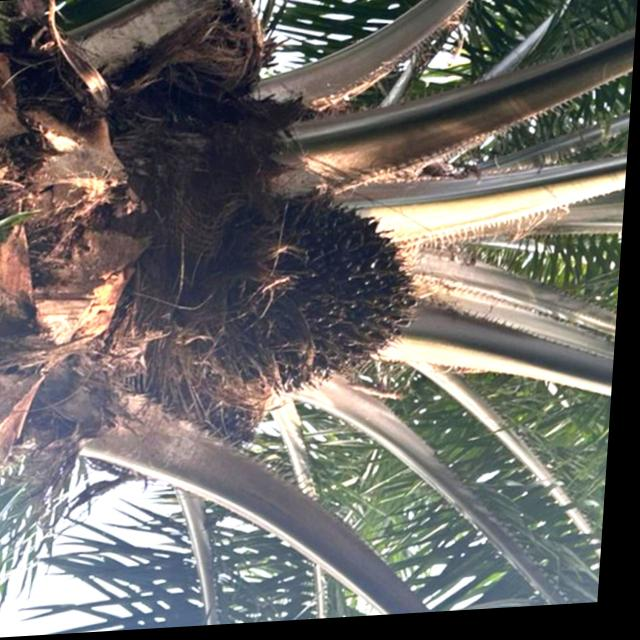almost: (202, 196, 436, 400)
